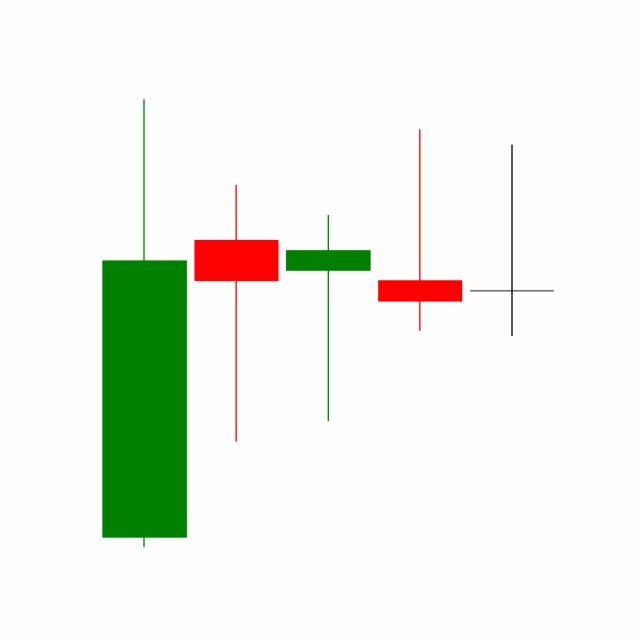Tristar Pattern: (280, 127, 555, 426)
